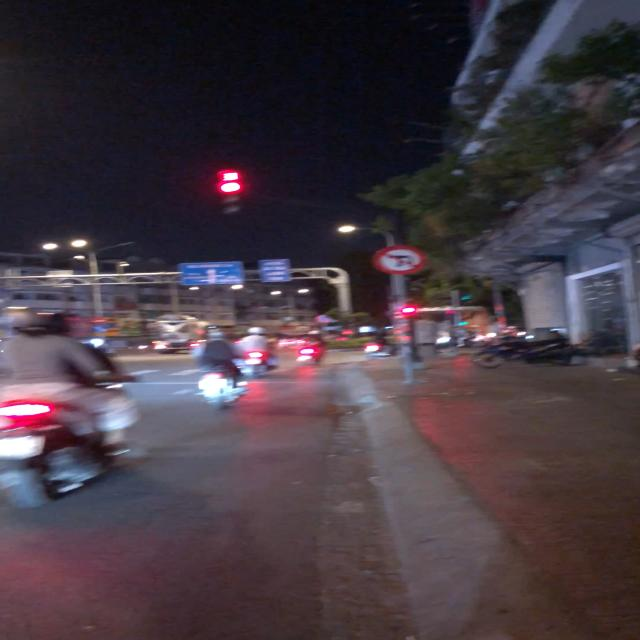Bien bao cam re trai va quay dau: (371, 245, 428, 276)
